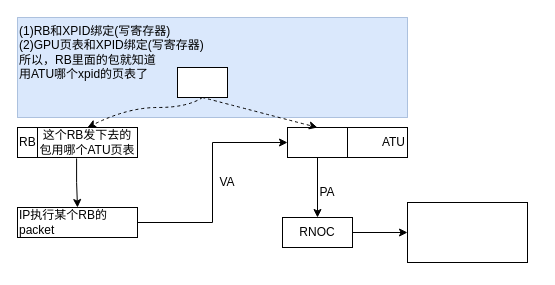
The diagram is 555 pixels wide and 285 high, and some of its shapes have lost their labels. The shapes that lost their labels are listed below. From the top down, each one's centre as x and y in pixels, then its label:
(x=202, y=82): XPID
(x=317, y=142): gpu 页表基地址
(x=467, y=232): HBM
